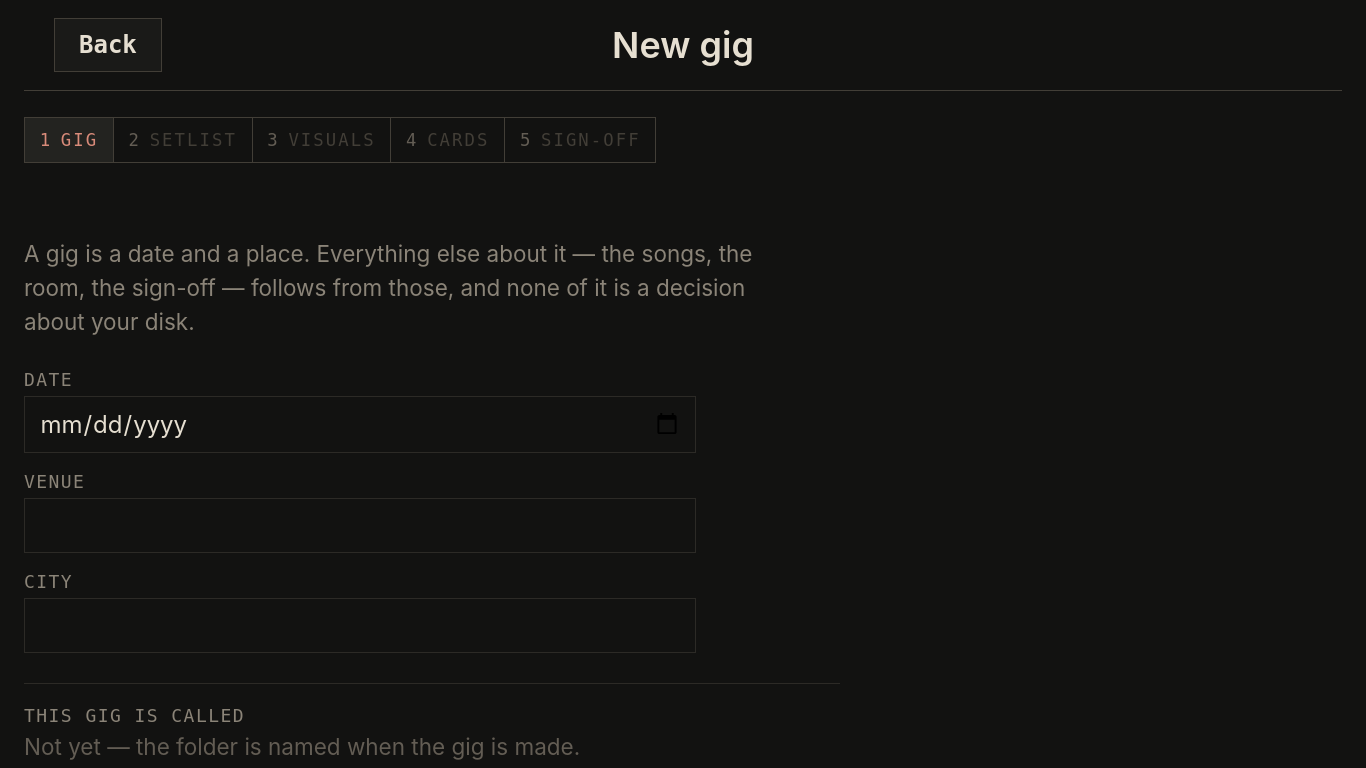
Test: screen 1: the gig › adds a song to the order on the gig it just created, from a store with no setlist
Step 1. Type "2026-05-16" into the date field with test id "gig-flow-date" → [360, 424], box x1=24 y1=396 x2=696 y2=453
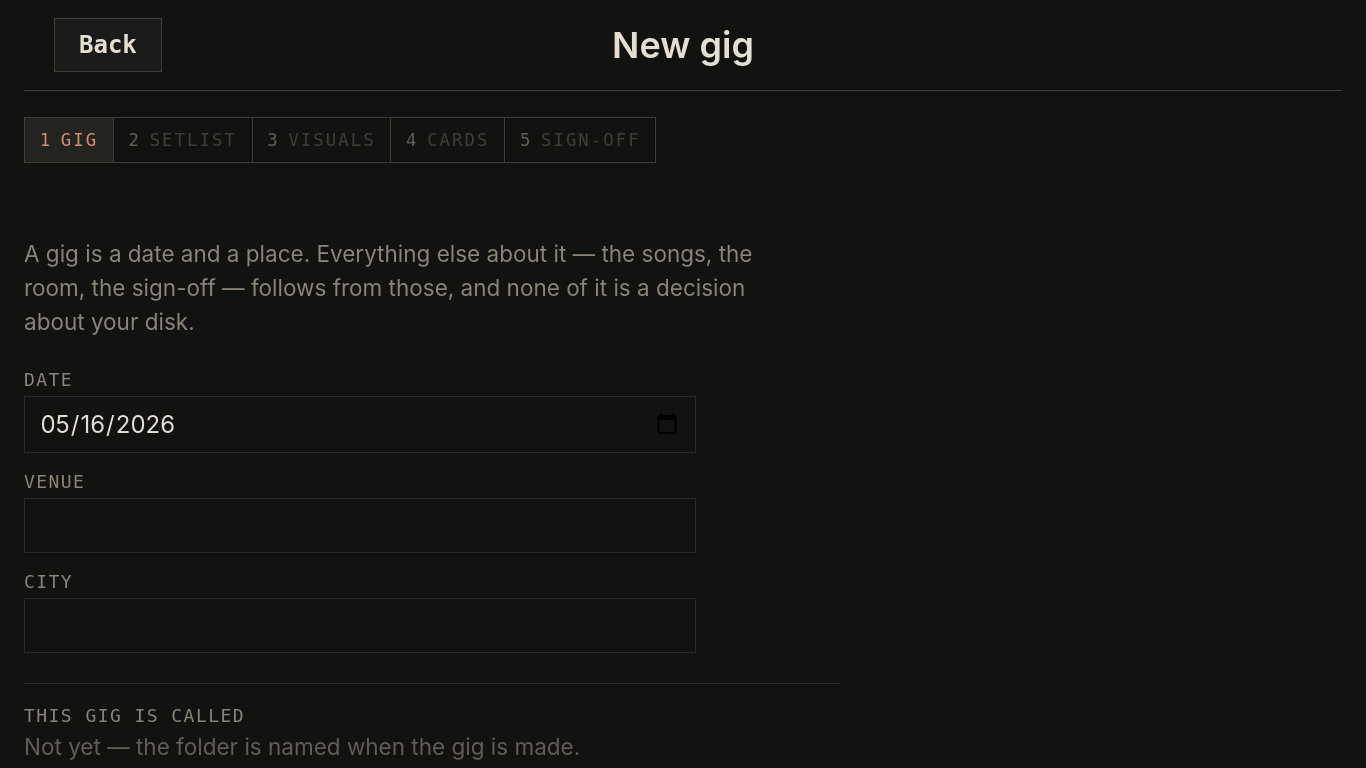
Step 2. Type "BOM Festival" into the field with test id "gig-flow-venue" → [360, 525], box x1=24 y1=498 x2=696 y2=553
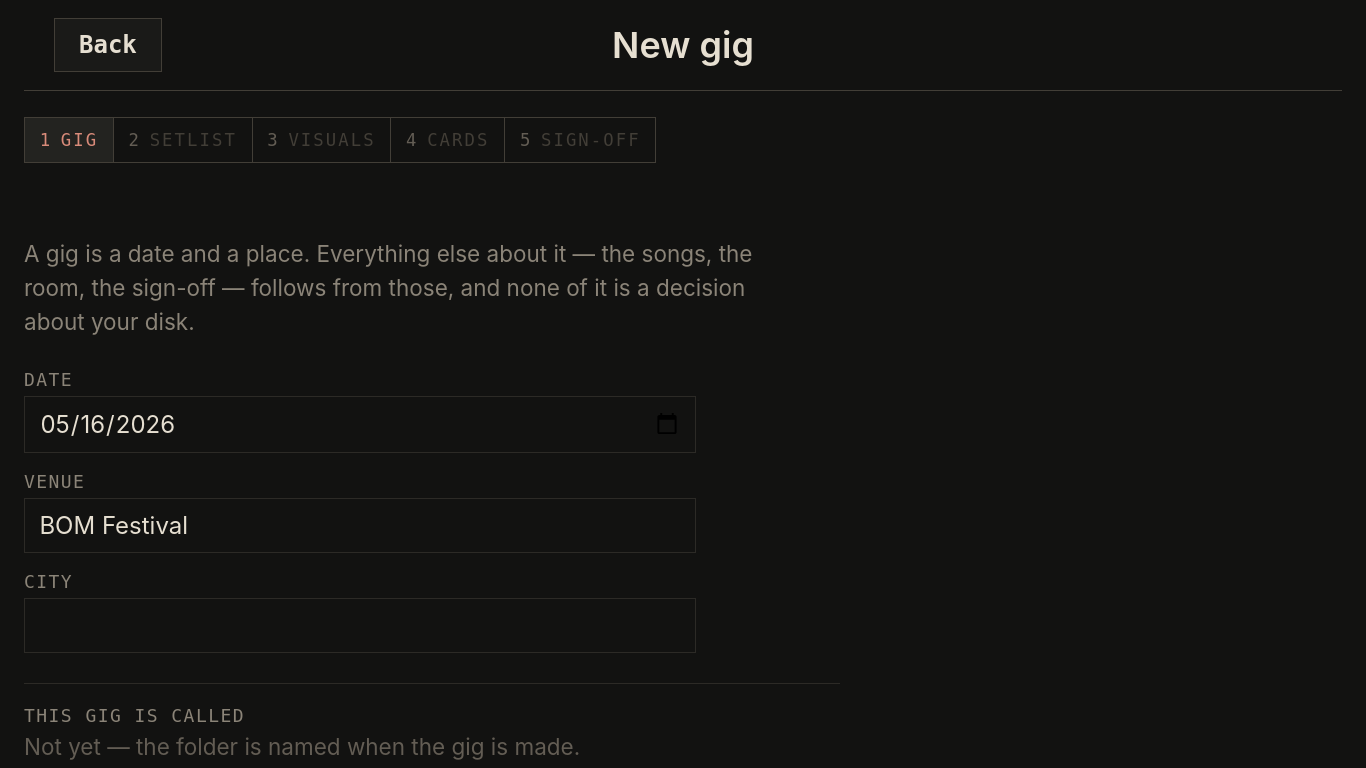
Step 3. Type "Brussels" into the field with test id "gig-flow-city" → [360, 625], box x1=24 y1=598 x2=696 y2=653
(page scrolled)
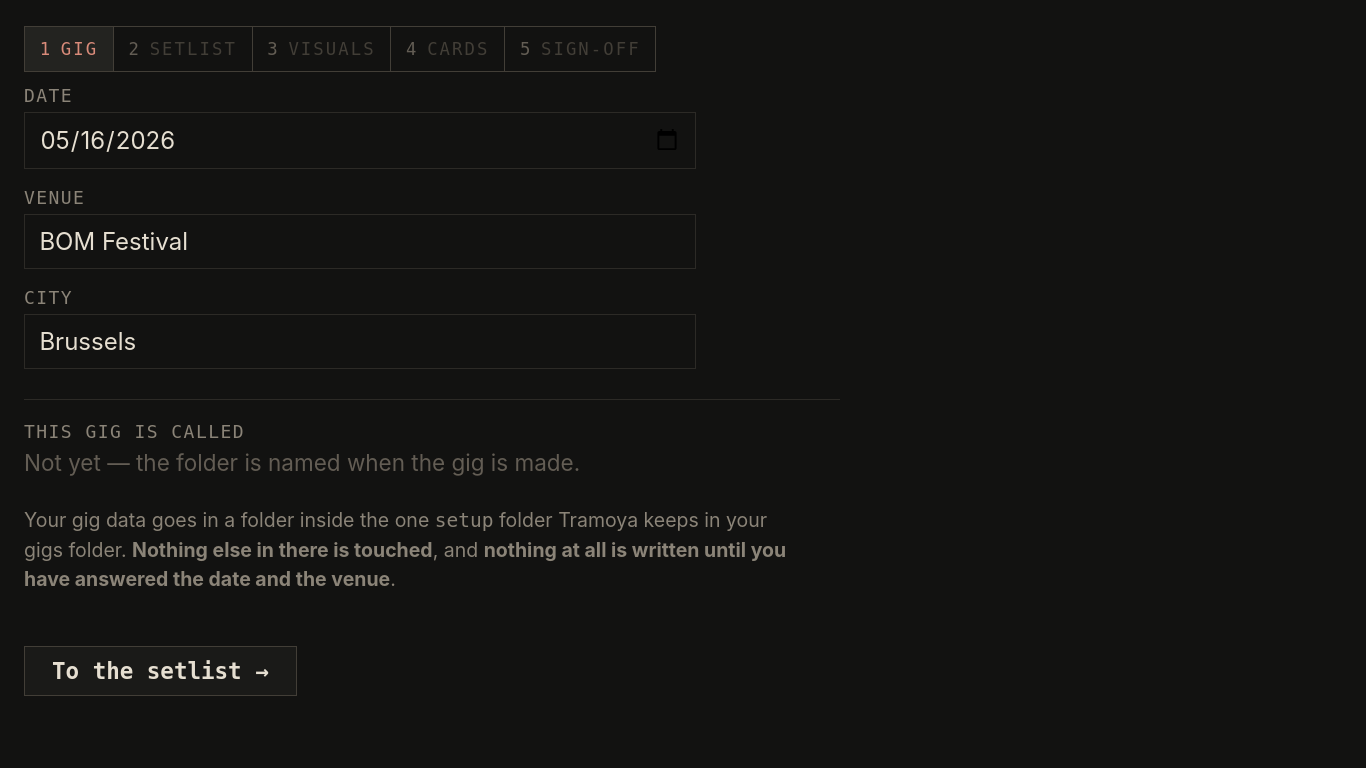
Step 4. Click the button with test id "gig-flow-commit" → [160, 671], box x1=24 y1=646 x2=297 y2=696
(page scrolled)
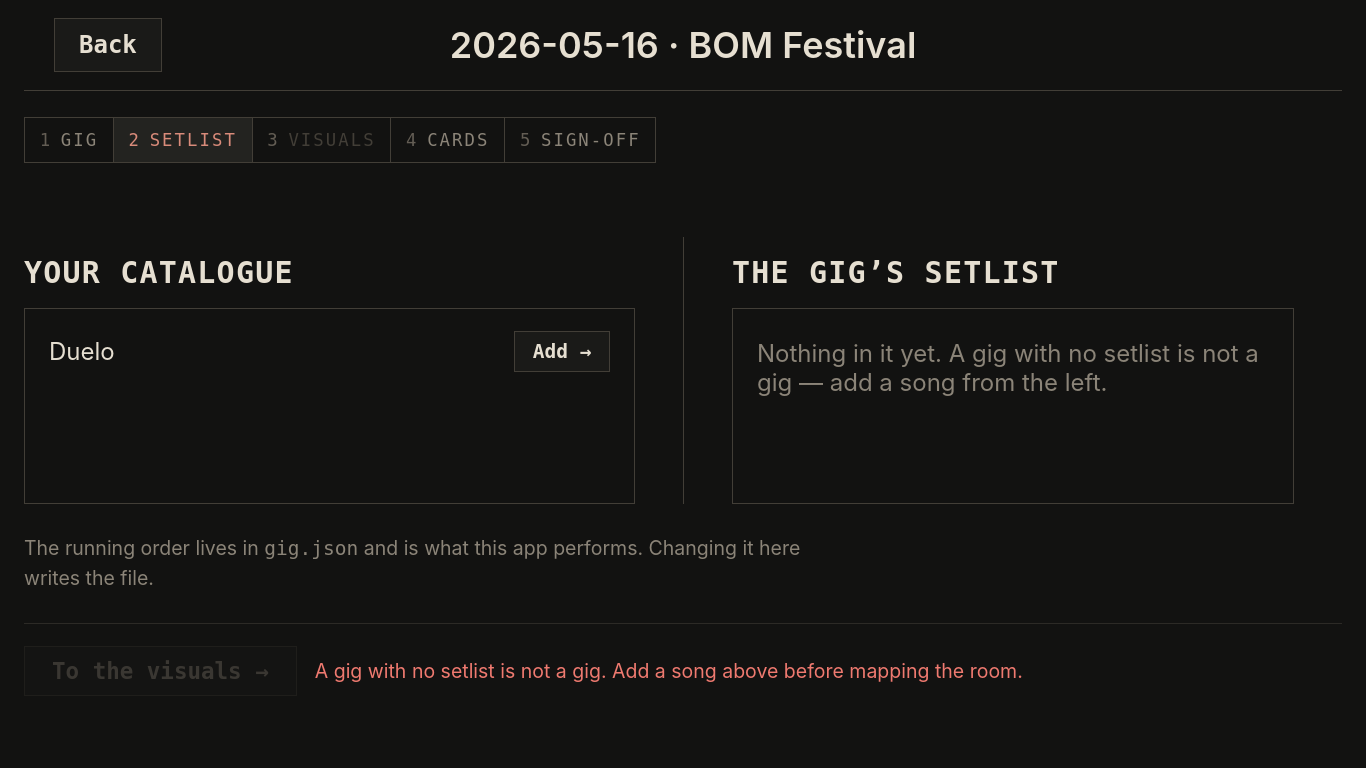
Now the list item with test id "gig-flow-catalogue-duelo" is shown, box x1=49 y1=321 x2=610 y2=381
Step 5. Click the button with test id "gig-flow-add-duelo" → [562, 351], box x1=514 y1=331 x2=610 y2=372
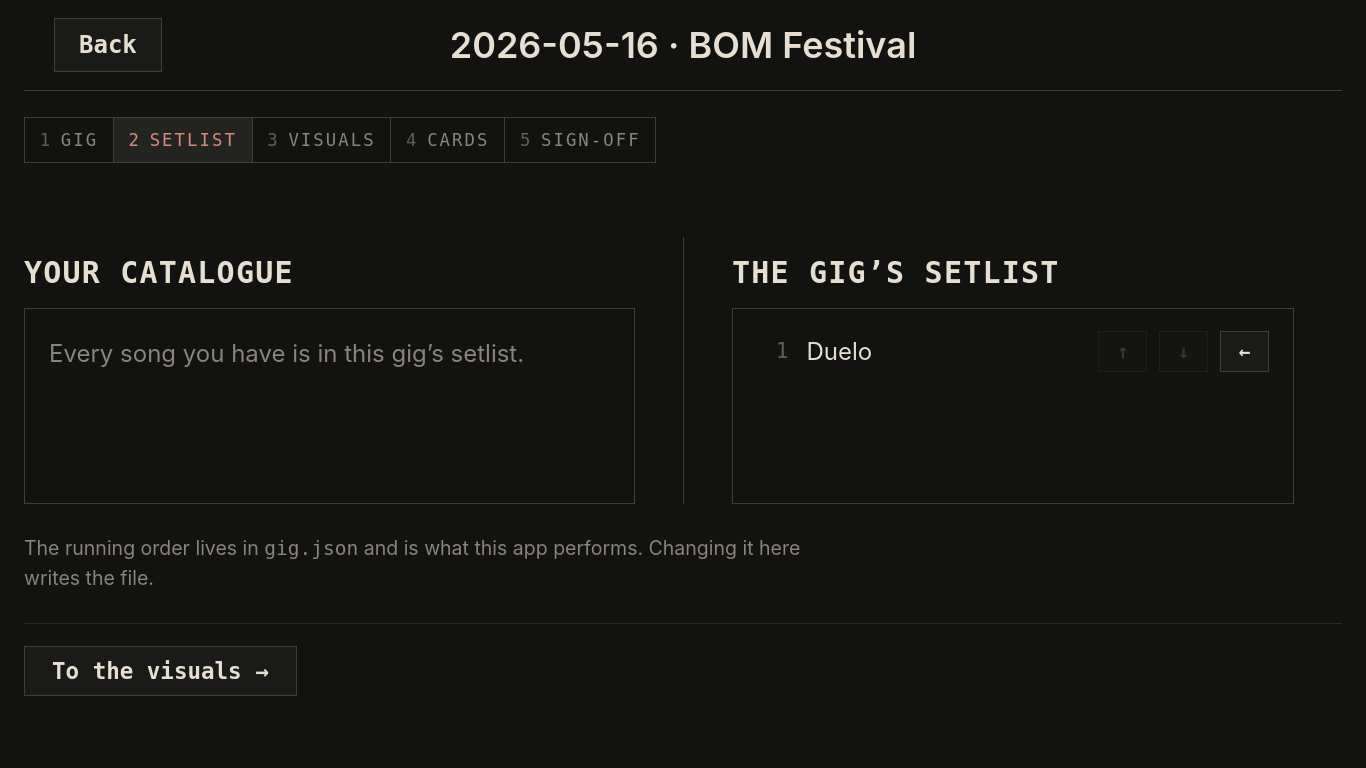
Now the list item with test id "gig-flow-order-duelo" is shown, box x1=757 y1=321 x2=1269 y2=381
